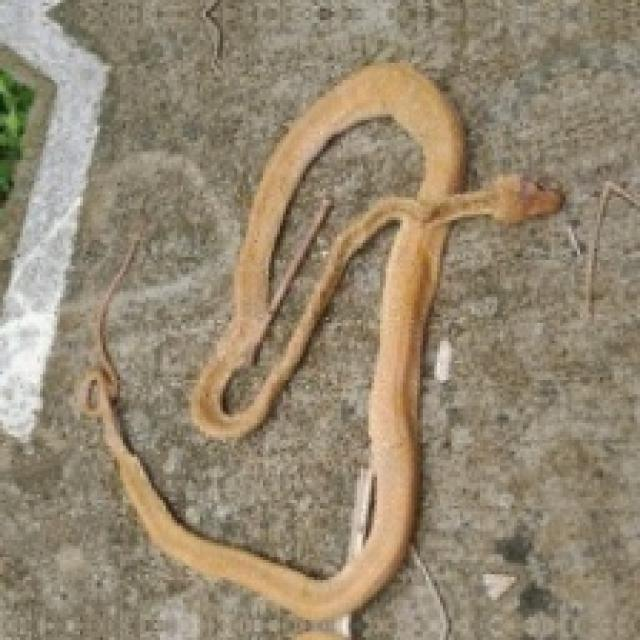philippine cat snake: (80, 63, 560, 620), (223, 117, 423, 409)
